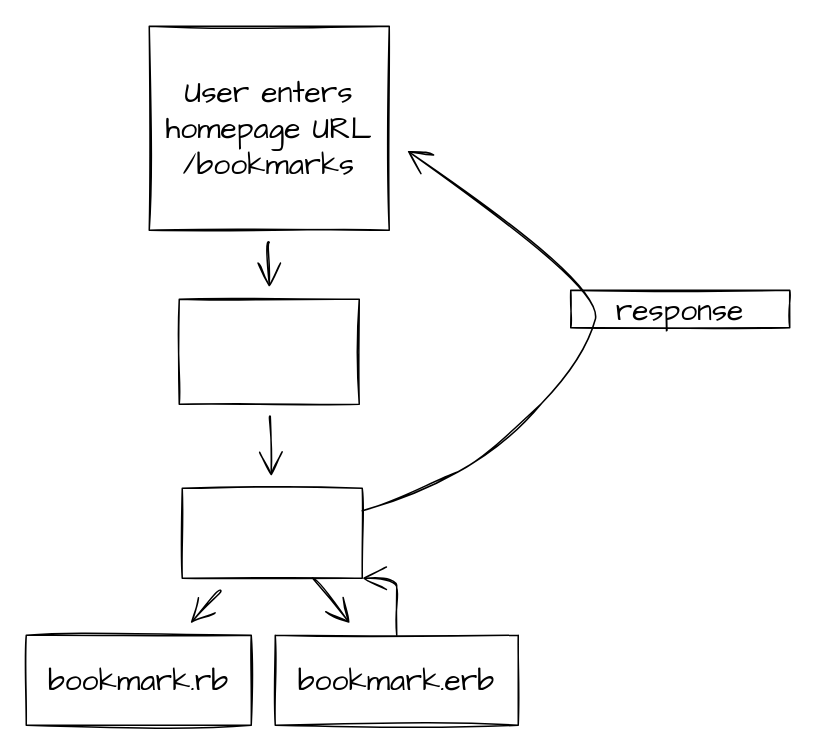
Some shapes in this 816 by 752 pixel diagram are drawn without their labels. The shapes that lost their labels are listed below. From the top down, each one's centre as x and y in pixels, then its label:
At (x=268, y=351): "GET request sent".
At (x=271, y=532): "app.rb".
